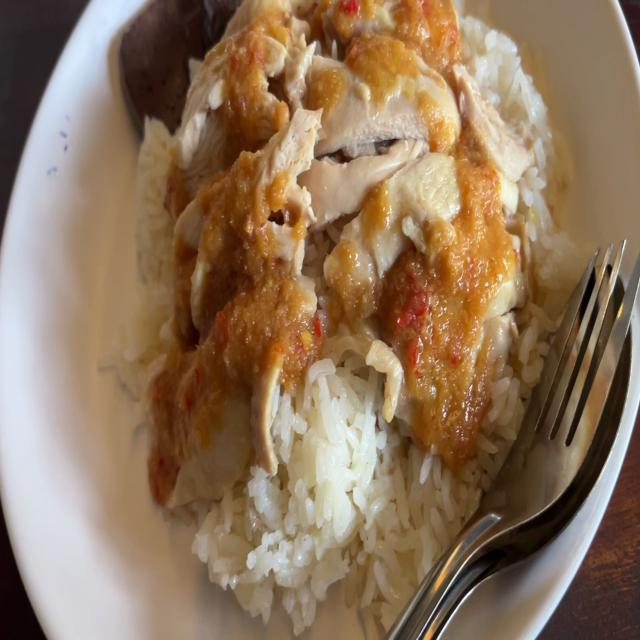boiled_chicken: (164, 15, 486, 439)
boiled_chicken_blood_jelly: (116, 0, 212, 136)
chicken_rice: (118, 10, 586, 608)
